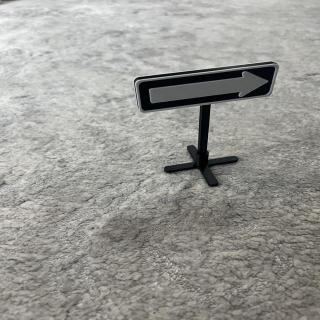sign_oneway_right: (135, 63, 282, 115)
